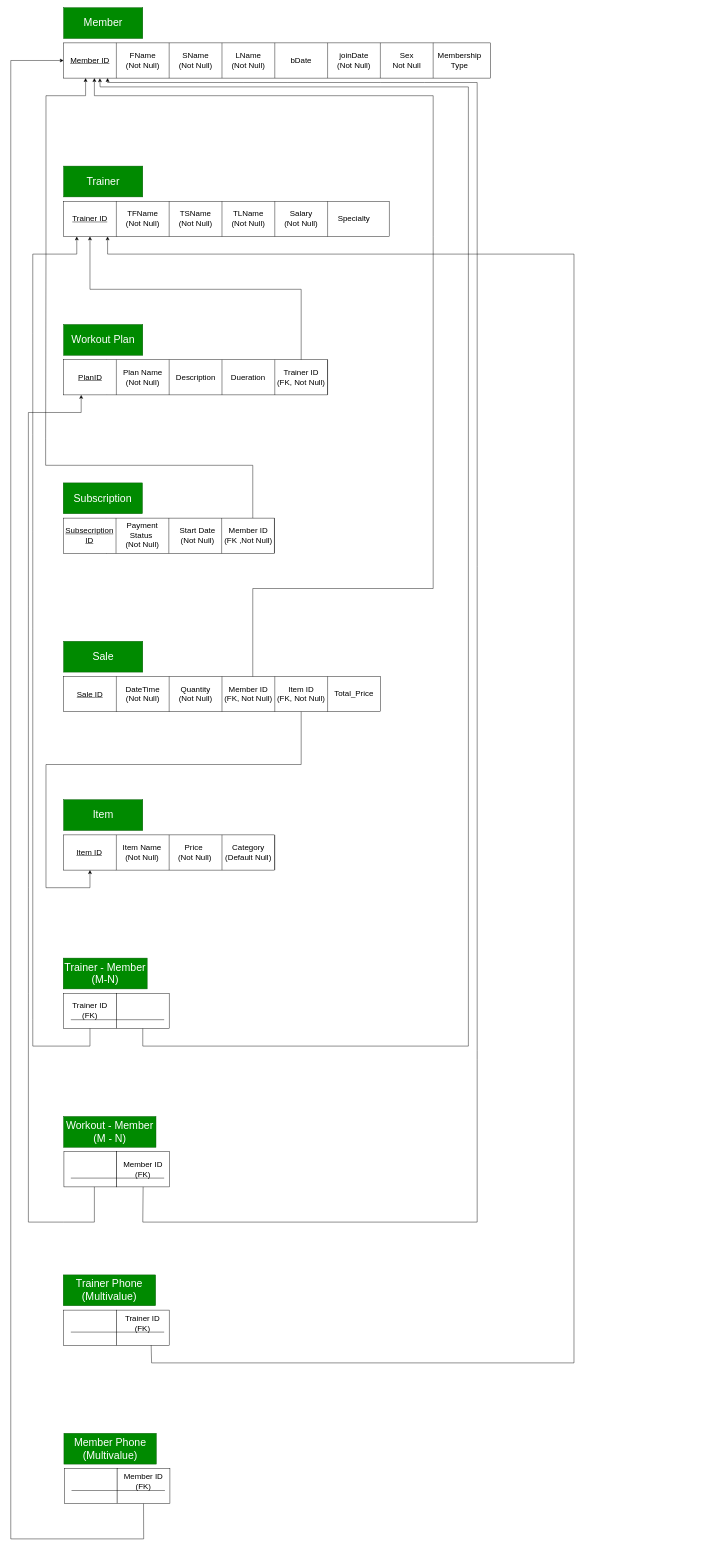
This 705x1550 diagram has some shape labels left out. The centre of each missing label's shape, as x and y in pixels:
MemberID (FK): point 142,1010
MPhone (FK): point 90,1486
Plan ID (FK): point 90,1169
TPone (FK): point 89,1327
